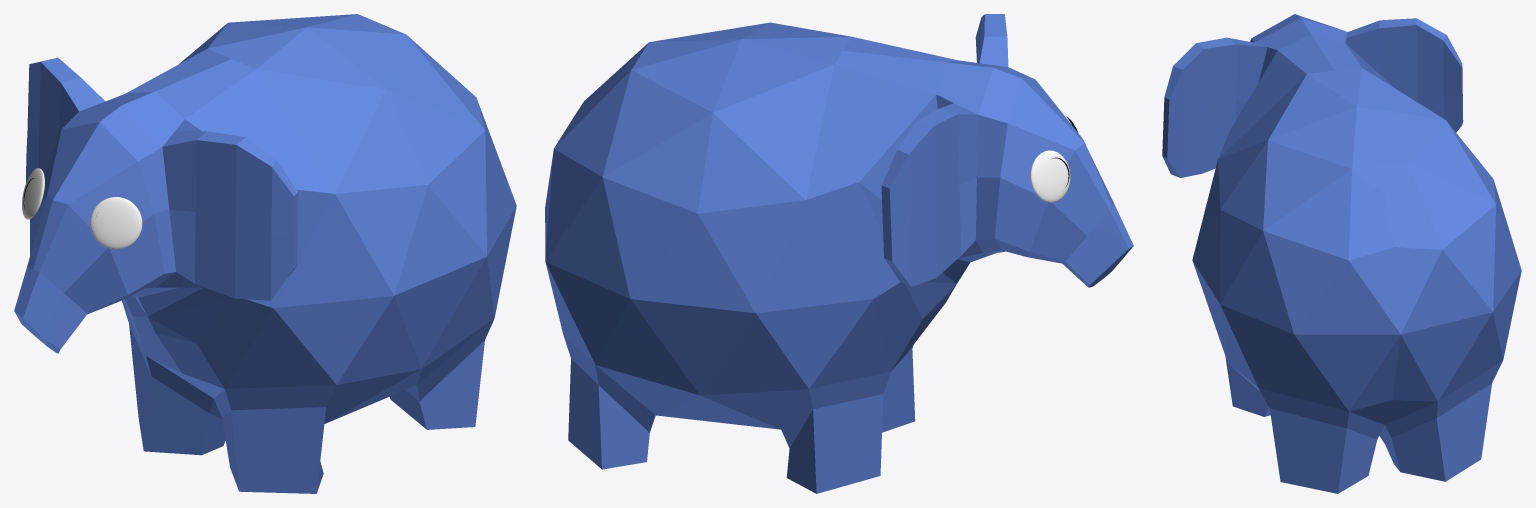
Rendered from elephant1.fbx.
The picture shows the model from 3 angles, left to right: view 1: azimuth 30°, elevation 25°; view 2: azimuth 150°, elevation 25°; view 3: azimuth 270°, elevation 25°; orthographic projection. The views are drawn at different scales.
Parts seen in each view (by area): view 1: 布尔_14; view 2: 布尔_14; view 3: 布尔_14.
Boxes of the visible parts, <box> form: 布尔_14: <box>14,14,516,493</box>; 布尔_14: <box>545,14,1133,493</box>; 布尔_14: <box>1162,14,1521,493</box>.
Size of the model in its own units: 240 by 177 by 176.
